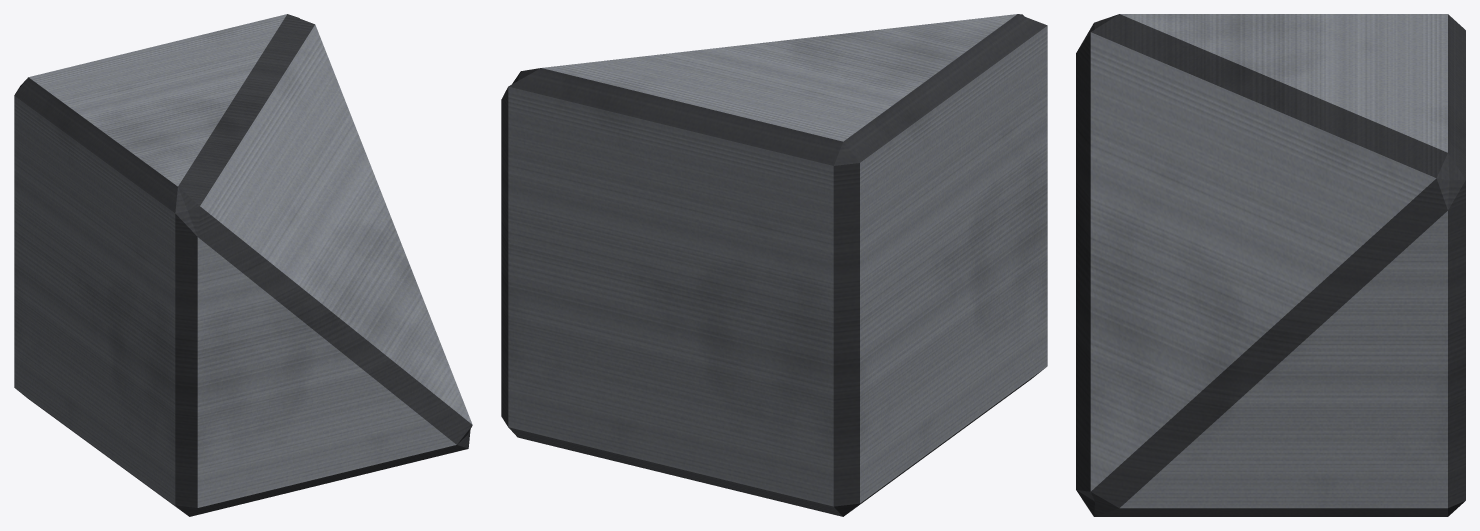
File: R4B_InnerCorner_LOD1.glb
3 renders of one model, left to right at view 1: azimuth 30°, elevation 25°; view 2: azimuth 150°, elevation 25°; view 3: azimuth 270°, elevation 25°, orthographic. The views are drawn at different scales.
Parts seen in each view (by area): view 1: R4B_InnerCorner_LOD1; view 2: R4B_InnerCorner_LOD1; view 3: R4B_InnerCorner_LOD1.
Boxes of the visible parts, bbox=[...] form: R4B_InnerCorner_LOD1: bbox=[14, 14, 472, 516]; R4B_InnerCorner_LOD1: bbox=[501, 14, 1047, 516]; R4B_InnerCorner_LOD1: bbox=[1076, 14, 1465, 516].
Size of the model in its own units: 0.52 by 0.52 by 0.52.
2 materials, 2 textured.
